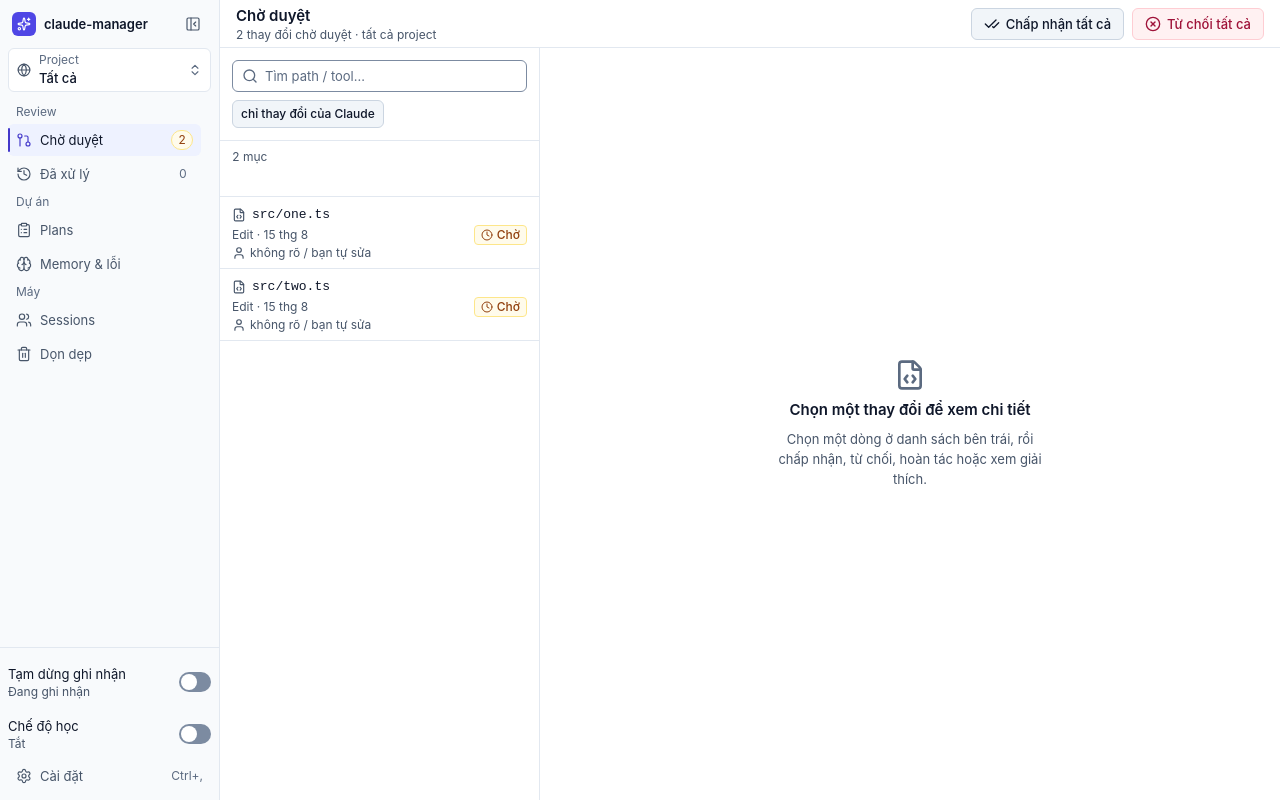
it: App keys: j and k move the selection of the primary list › UC-001/AC-18 j typed in the search field does not move the selection
Click the text "src/one.ts": [291, 215] box [252,205,330,225]
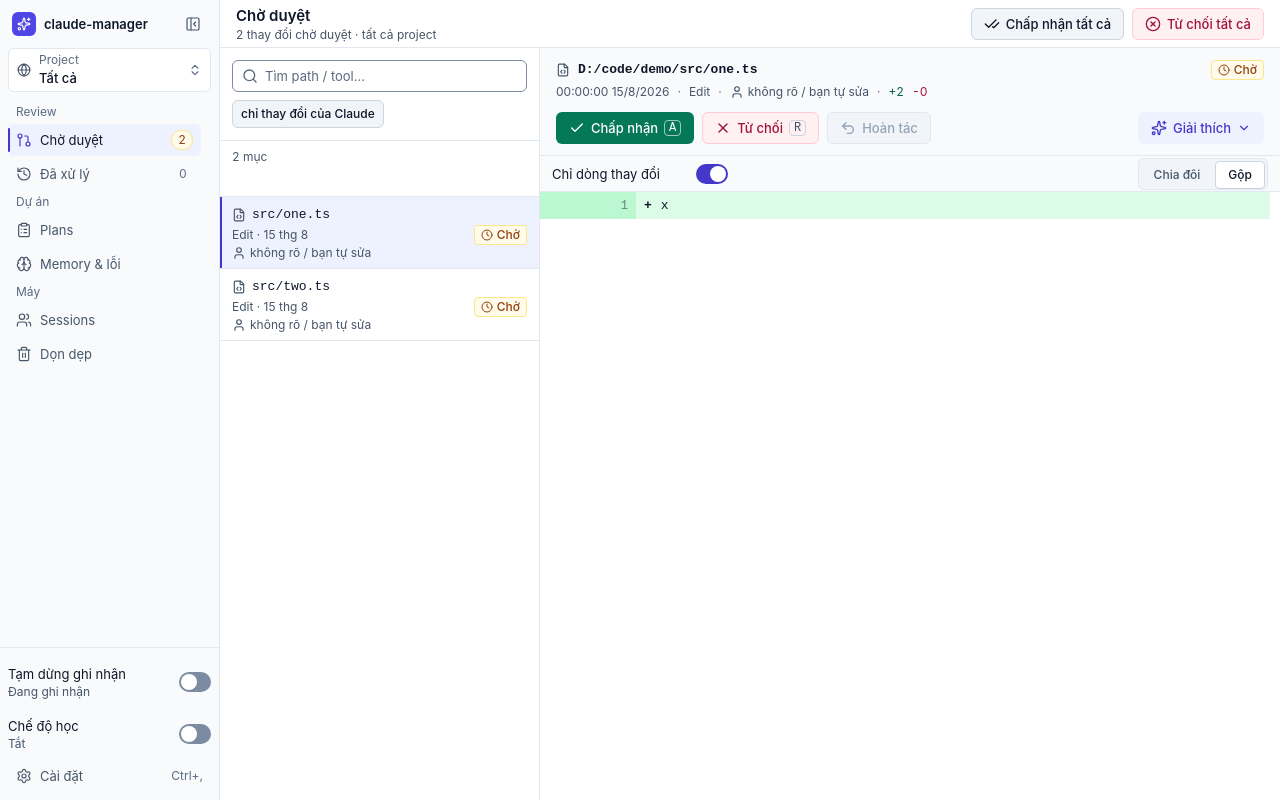
Type keys "/"
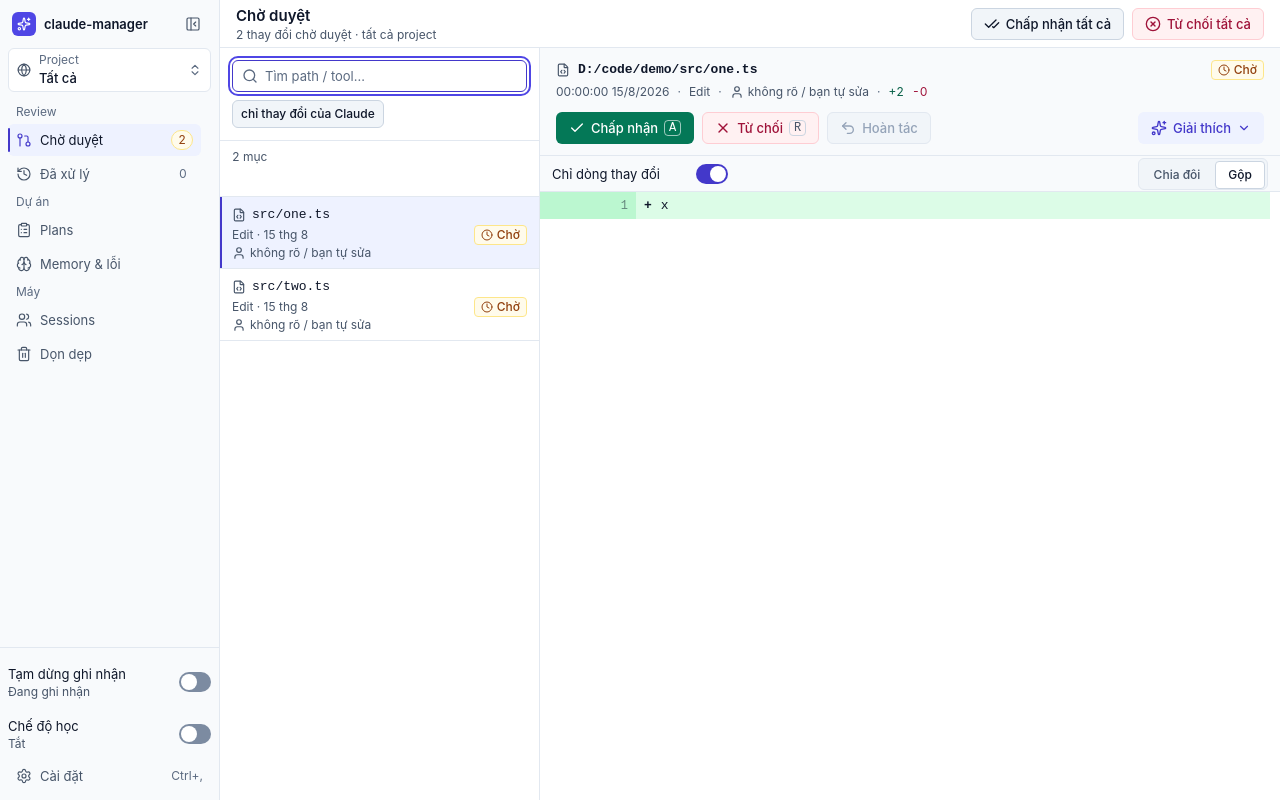
Type keys "j"
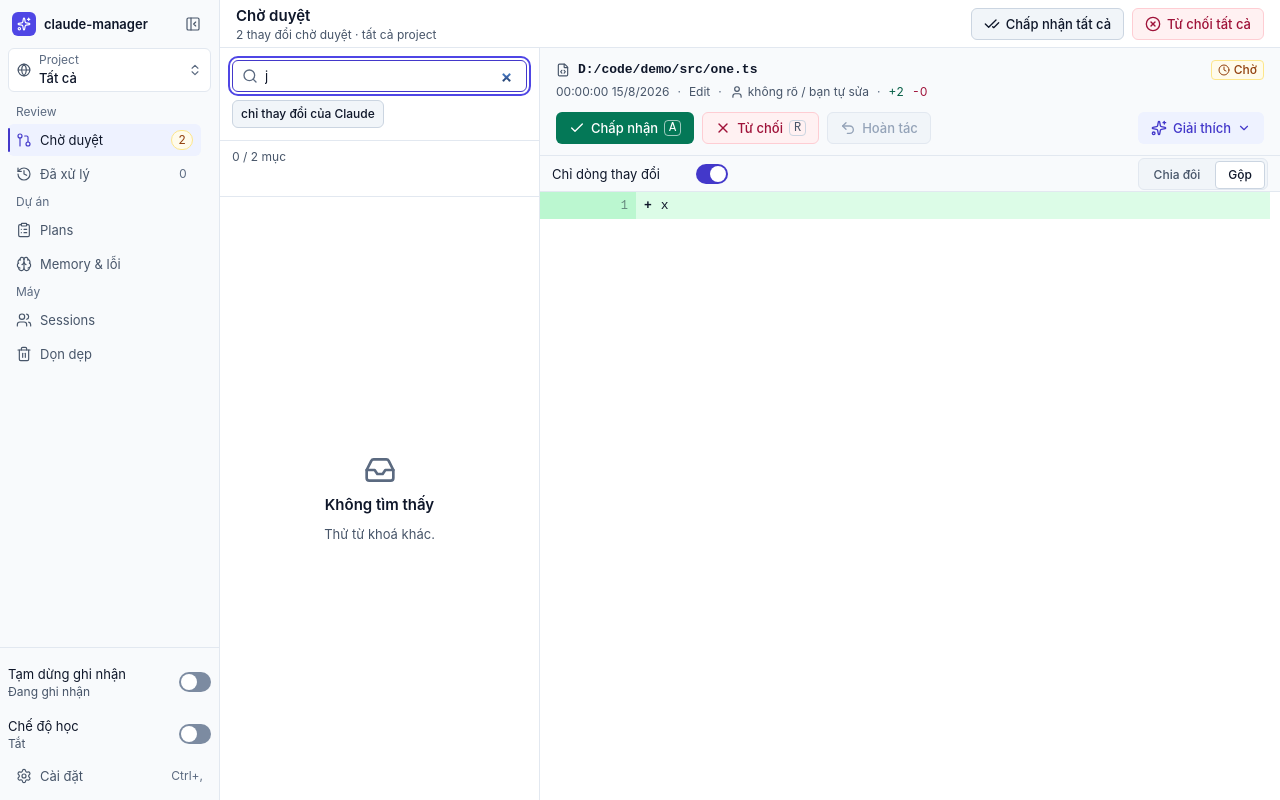
Expected: the search field named "Tìm path / tool…" holds "j", [232,60,527,92]
